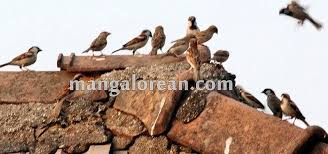hsparrow: (272, 1, 324, 33), (2, 44, 47, 76), (113, 29, 153, 61), (279, 92, 310, 127), (185, 38, 202, 87), (260, 86, 283, 120), (82, 30, 112, 56), (181, 26, 225, 42), (150, 22, 167, 63), (182, 13, 201, 41)
